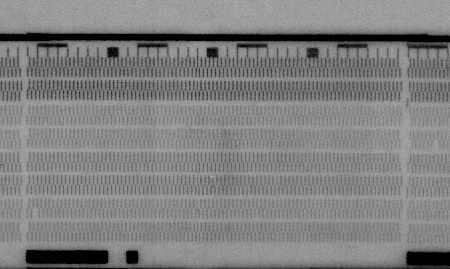Broken hole: (29, 209, 43, 221), (431, 139, 442, 152)
Oblique printing: (207, 174, 221, 189), (403, 92, 414, 106)
